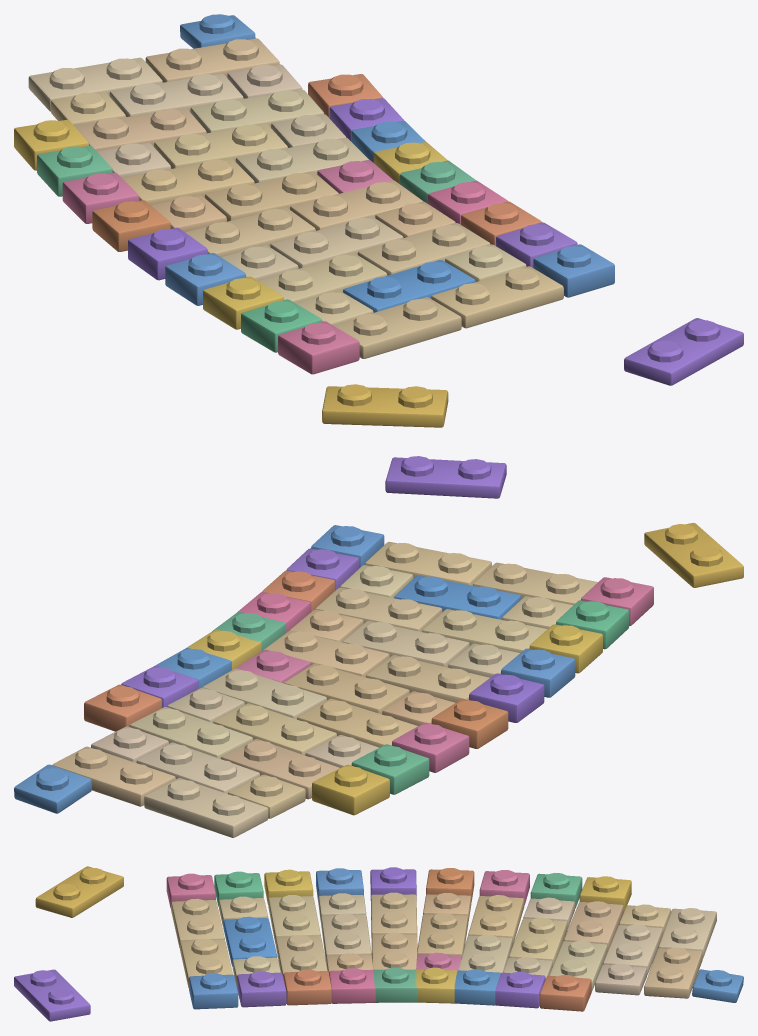
Rendered from W1_BrickPathSpill.fbx.
3 renders of one model, top to bottom at view 1: azimuth 30°, elevation 25°; view 2: azimuth 150°, elevation 25°; view 3: azimuth 270°, elevation 25°, orthographic. The views are drawn at different scales.
Parts seen in each view (by area): view 1: W1_BrickPathSpill; view 2: W1_BrickPathSpill; view 3: W1_BrickPathSpill.
Part boxes in pixels (x1=…): W1_BrickPathSpill: x1=14, y1=14, x2=743, y2=427; W1_BrickPathSpill: x1=14, y1=456, x2=743, y2=837; W1_BrickPathSpill: x1=14, y1=866, x2=743, y2=1021.
Size of the model in its own units: 0.8757 by 0.068 by 1.85.
